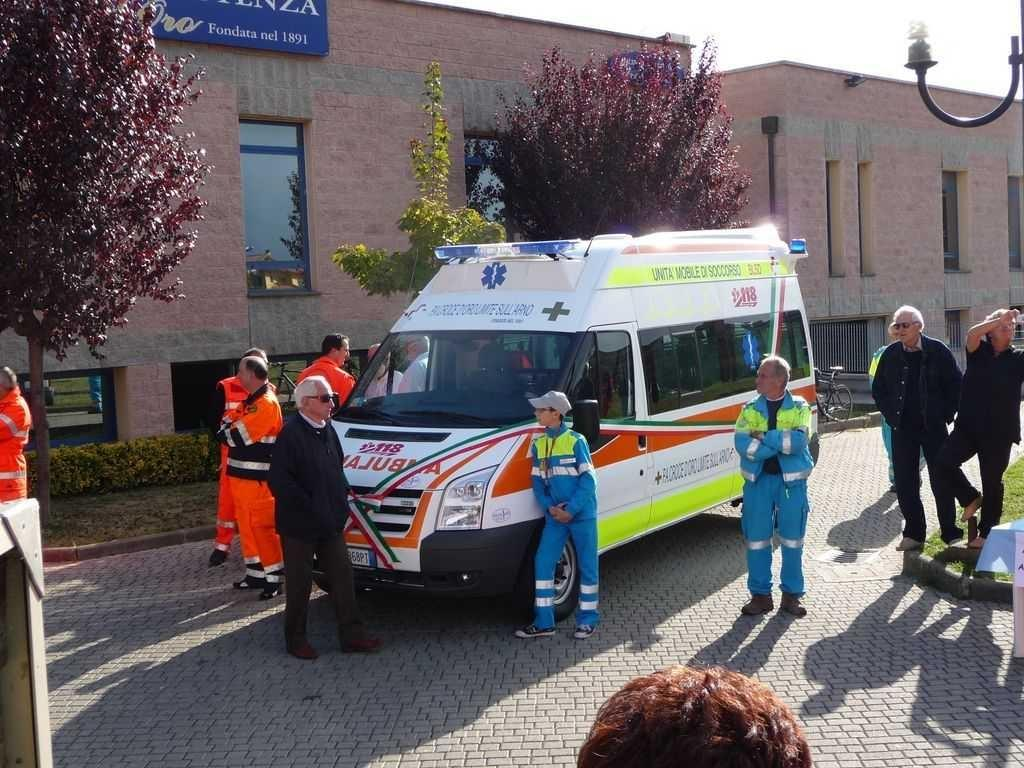car: (316, 221, 820, 617)
